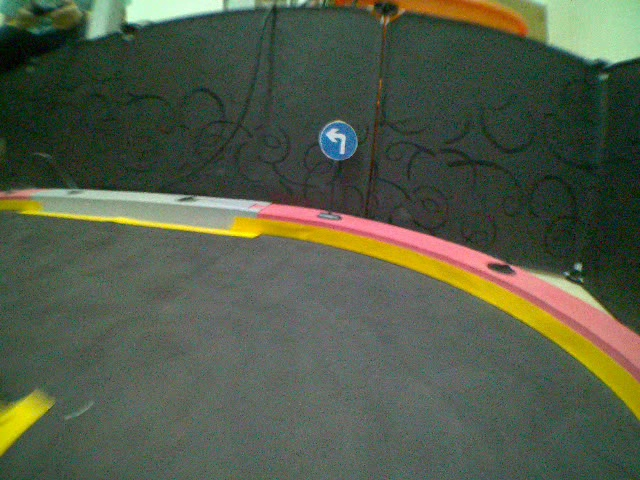turn: (318, 119, 358, 161)
